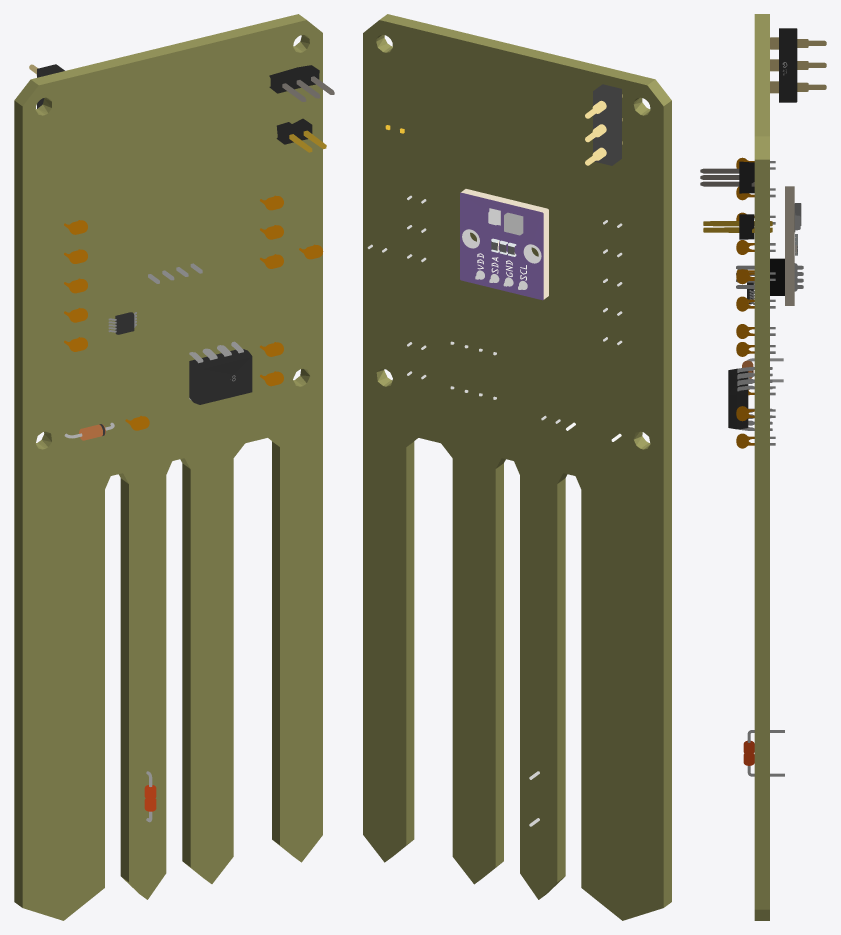
Rendered from OBJ_PCB_GreenEye_SensorModule.obj.
3 views of the same model, side by side, from view 1: azimuth 30°, elevation 25°; view 2: azimuth 150°, elevation 25°; view 3: azimuth 270°, elevation 25° (orthographic). The views are drawn at different scales.
Size of the model in its own units: 211 by 566 by 82.44.
